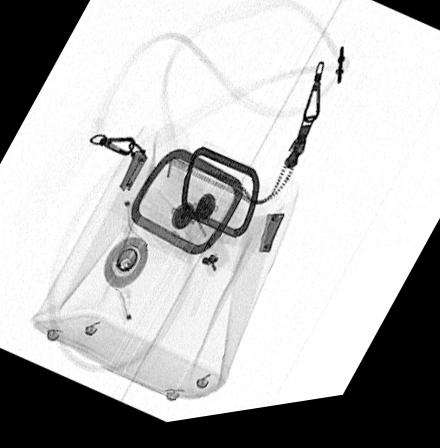Lighter: (173, 201, 232, 284)
